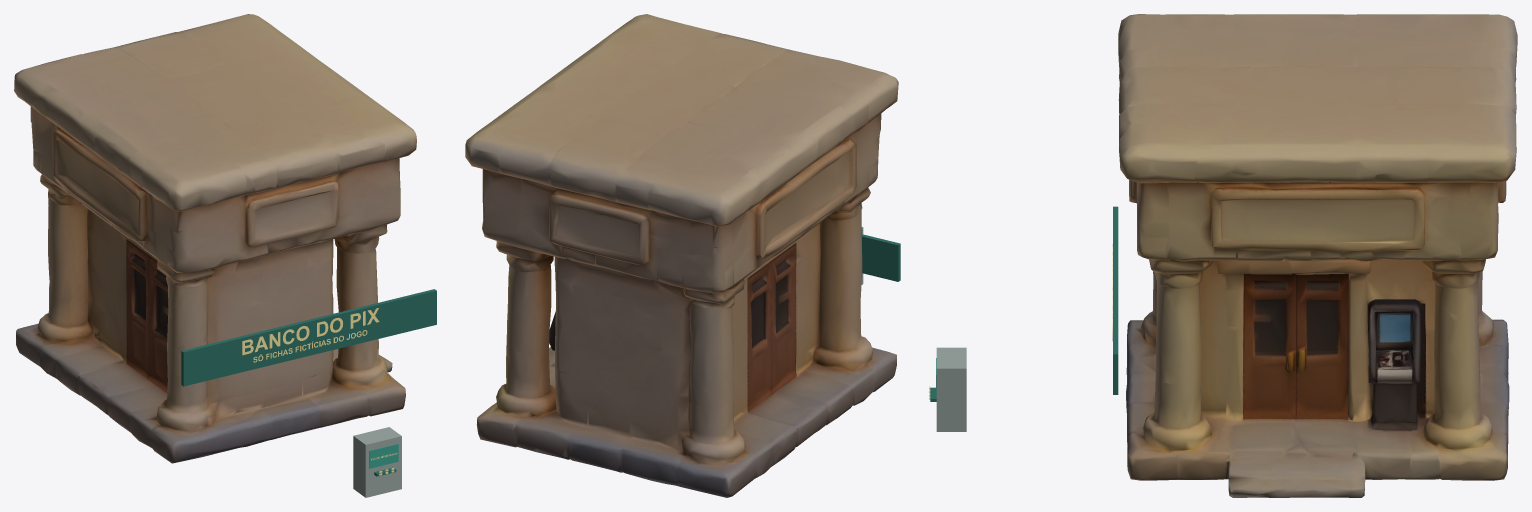
File: secret-bank.glb
3 renders of one model, left to right at view 1: azimuth 30°, elevation 25°; view 2: azimuth 150°, elevation 25°; view 3: azimuth 270°, elevation 25°, orthographic. The views are drawn at different scales.
Parts seen in each view (by area): view 1: tripo_node_4ef80f5a-0a10-4371-b1d5-937f0caa46f2, Bank_Header, Pix_Terminal, Sign_BANCO DO PIX, Pix_Screen; view 2: tripo_node_4ef80f5a-0a10-4371-b1d5-937f0caa46f2, Bank_Header; view 3: tripo_node_4ef80f5a-0a10-4371-b1d5-937f0caa46f2, Pix_Terminal, Bank_Header.
Part boxes in pixels (left/top/right/bottom): tripo_node_4ef80f5a-0a10-4371-b1d5-937f0caa46f2: left=14, top=14, right=416, bottom=463; Bank_Header: left=181, top=289, right=436, bottom=386; Pix_Terminal: left=353, top=427, right=401, bottom=497; Sign_BANCO DO PIX: left=242, top=308, right=379, bottom=355; Pix_Screen: left=369, top=444, right=398, bottom=468; tripo_node_4ef80f5a-0a10-4371-b1d5-937f0caa46f2: left=465, top=14, right=898, bottom=497; Bank_Header: left=862, top=234, right=900, bottom=281; tripo_node_4ef80f5a-0a10-4371-b1d5-937f0caa46f2: left=1118, top=14, right=1517, bottom=497; Pix_Terminal: left=936, top=347, right=966, bottom=431; Bank_Header: left=1113, top=206, right=1118, bottom=394.
Size of the model in its own units: 11 by 11.2 by 17.67.
5 materials, 1 textured.
